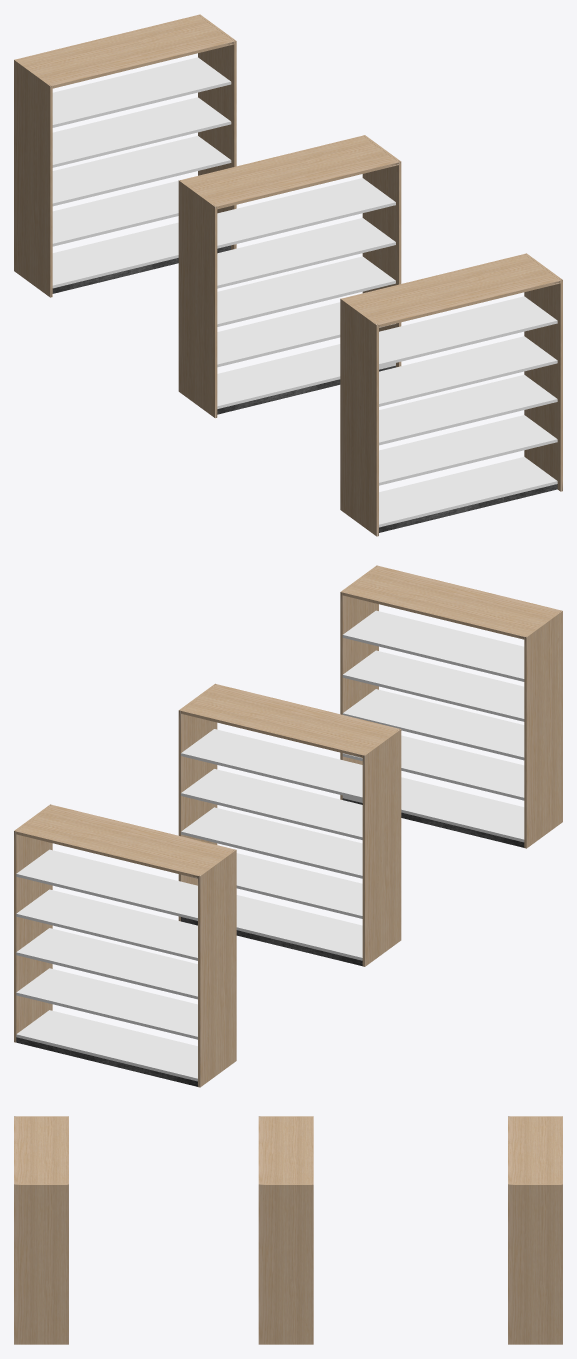
The model's file is BookRack03.fbx.
3 renders of one model, top to bottom at view 1: azimuth 30°, elevation 25°; view 2: azimuth 150°, elevation 25°; view 3: azimuth 270°, elevation 25°, orthographic. The views are drawn at different scales.
Visible parts, largest first — view 1: BookRack03; view 2: BookRack03; view 3: BookRack03.
Boxes of the visible parts, x1,y1,x2,y2 form: BookRack03: (14,14,562,536); BookRack03: (14,565,562,1087); BookRack03: (14,1116,562,1344).
Bounding box in the file's own units: 2.17 × 2.35 × 7.32.
